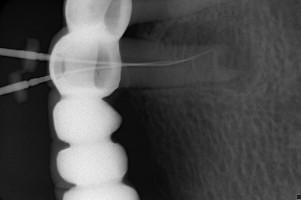Furcation Involvement: (136, 20, 259, 91)
